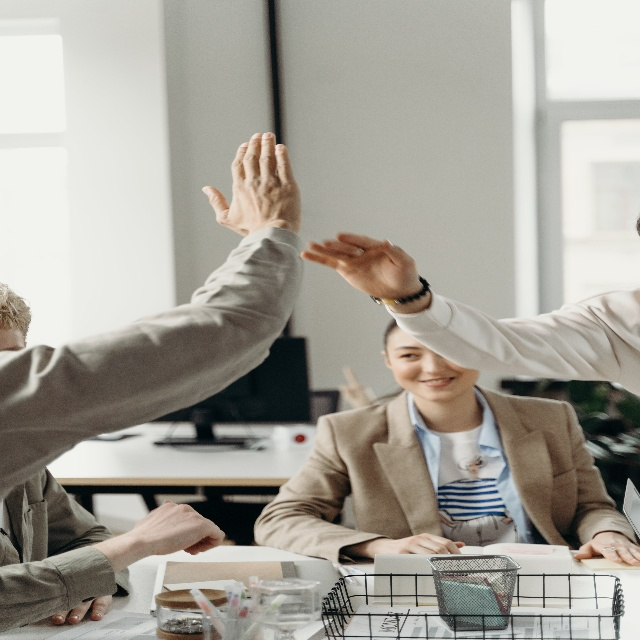Sin_guantes: (197, 126, 301, 235), (300, 228, 417, 305), (132, 499, 225, 566), (576, 535, 640, 568), (381, 538, 464, 563), (54, 593, 113, 625)
